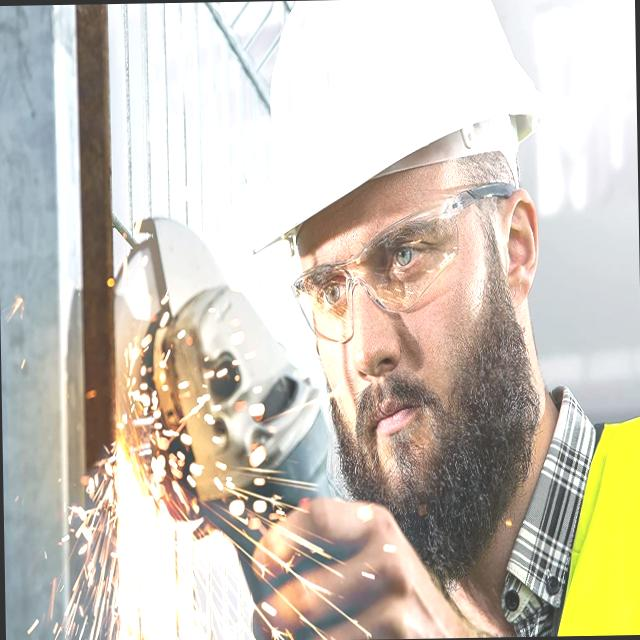goggles: (286, 179, 524, 350)
helmet: (238, 0, 550, 263)
vest: (530, 378, 640, 636)
